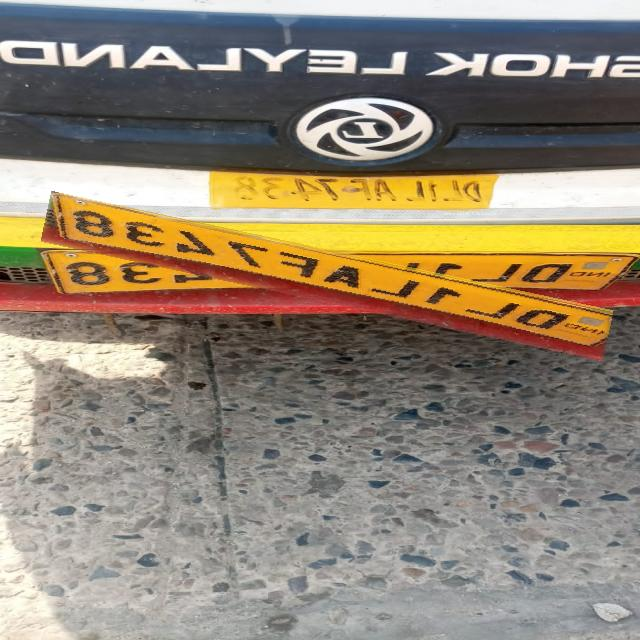License-plate: (41, 220, 614, 332)
